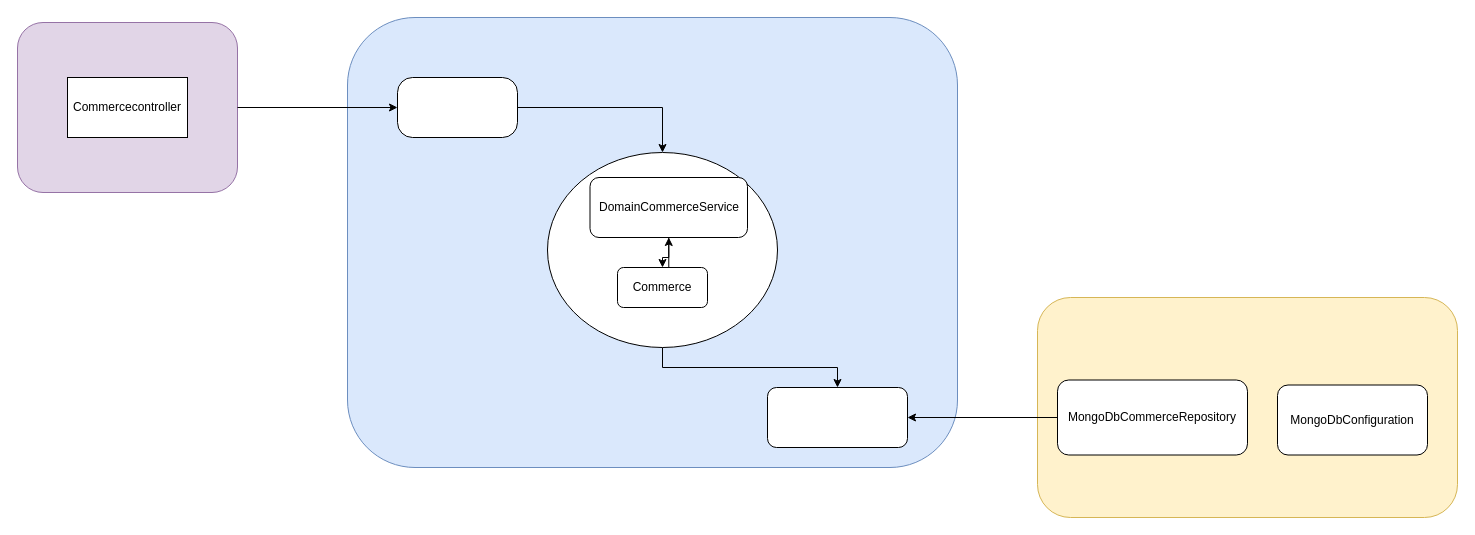
Image size: 1475x535. Some labels were removed from this diagram. The shapes that lost their labels are listed below. From the top down, each one's centre as x and y in pixels, then its label:
At point 457,107: "CommerceService".
At point 837,417: "CommerceRepository".
